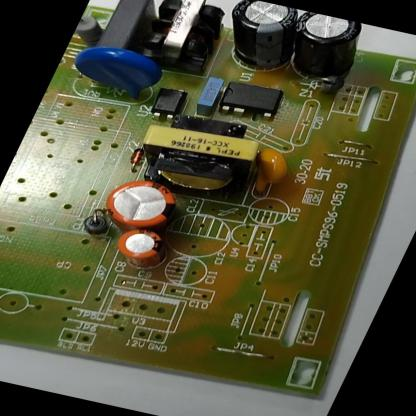Cap1: (84, 169, 194, 244)
Cap2: (102, 221, 182, 277)
Cap3: (201, 0, 317, 81)
Cap4: (262, 8, 378, 96)
MOSFET: (208, 76, 293, 127)
Mov: (52, 36, 180, 110)
Resistor: (68, 11, 118, 54)
Transformer: (107, 102, 290, 210), (124, 0, 243, 79)
